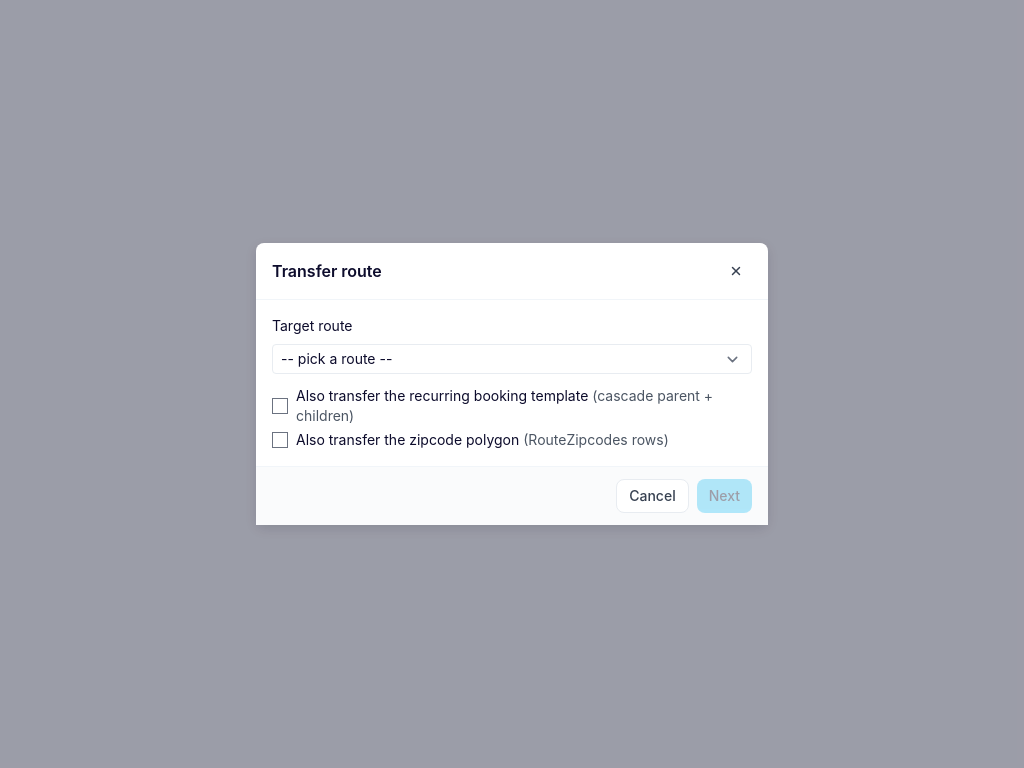
Test case: TransferRouteDialog › back button returns from confirm to pick step
This screenshot has width=1024, height=768.
Select "North" in the dropdown: (512, 359) [272,344,752,374]
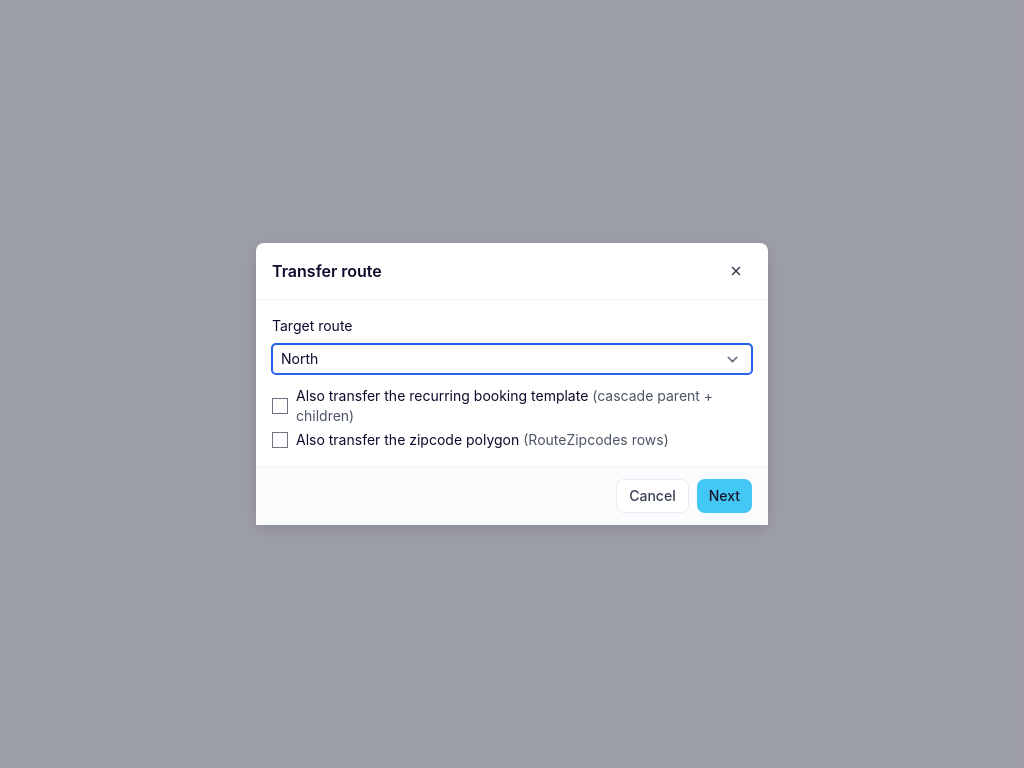
Click the button "Next": (724, 496) [697,479,752,513]
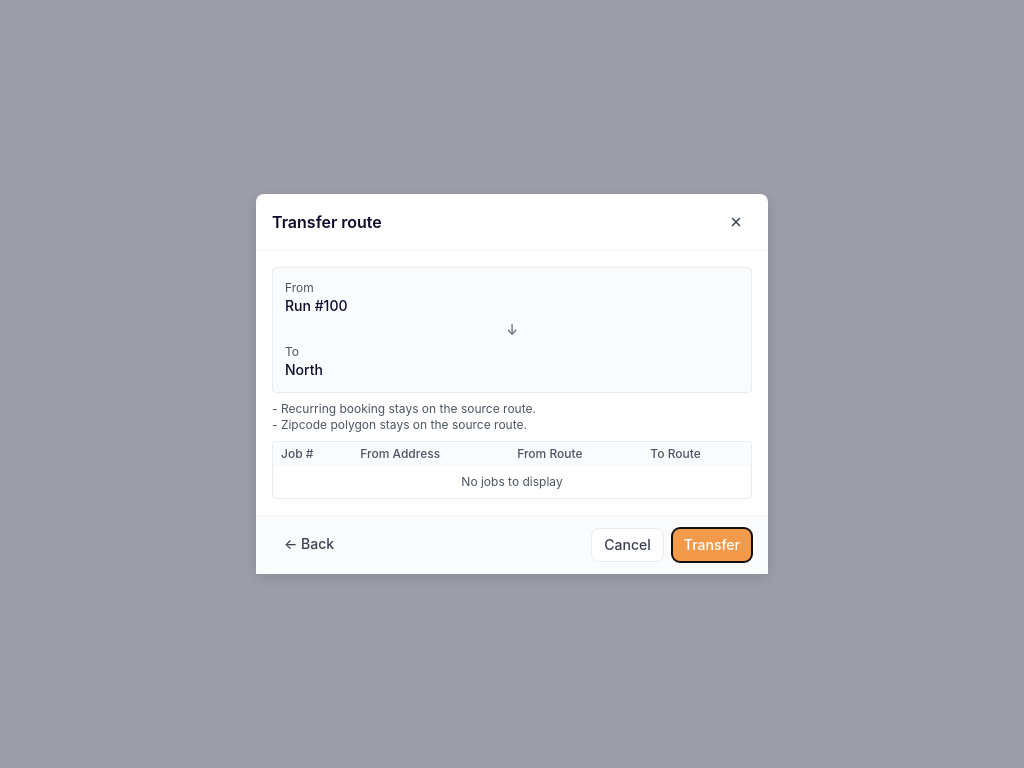
Check: the button "← Back" is shown
Click the button "← Back": (309, 544) [272,528,346,560]
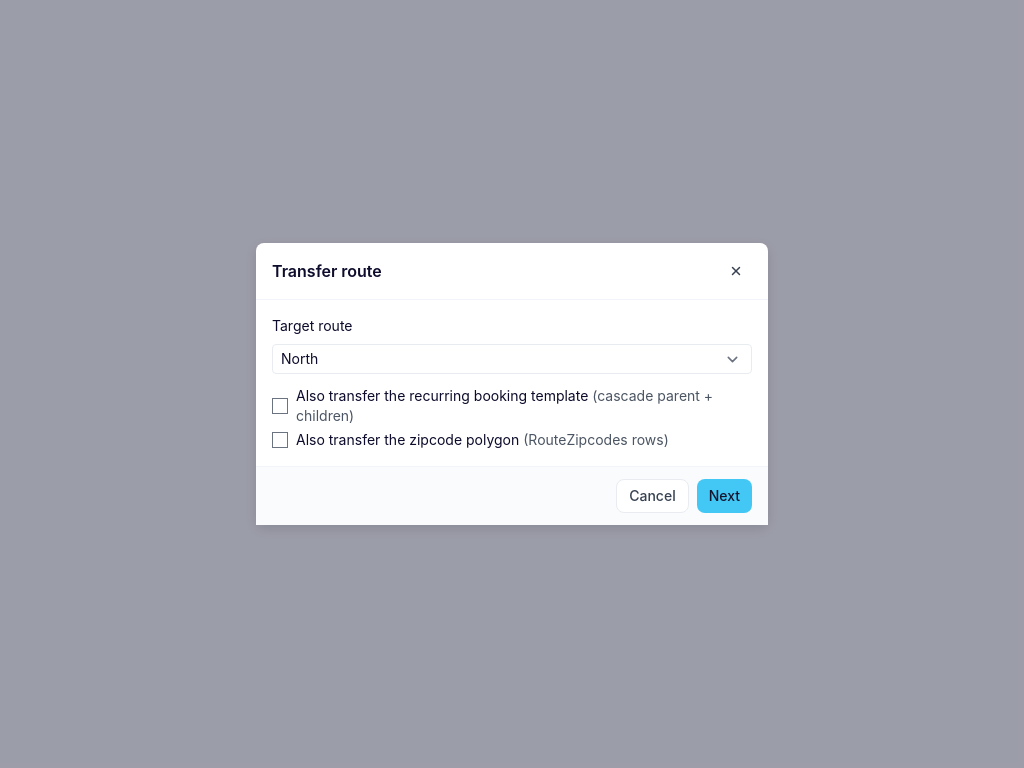
Check: the button "Next" is shown, box [697,479,752,513]
